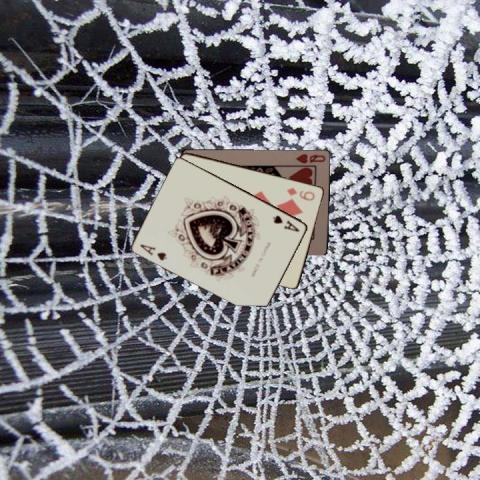9d: (283, 184, 317, 202)
As: (137, 241, 169, 262), (270, 212, 301, 233)
Qh: (292, 150, 326, 164)
